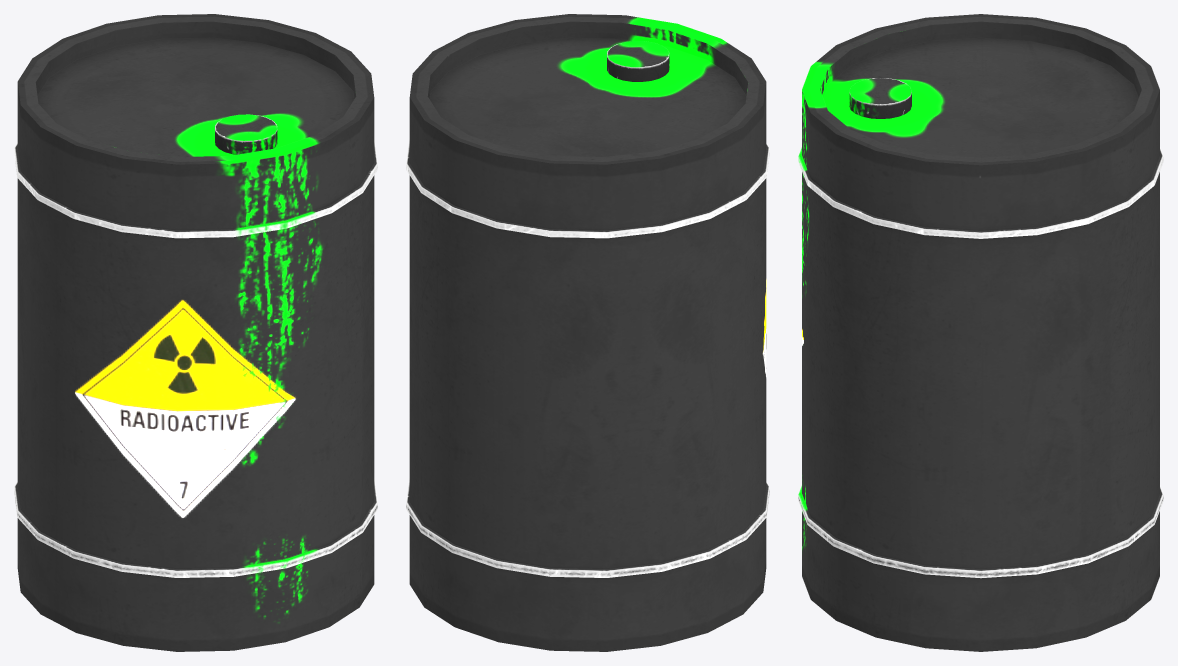
The model's file is toxic_metal_barrel.glb.
3 views of the same model, side by side, from view 1: azimuth 30°, elevation 25°; view 2: azimuth 150°, elevation 25°; view 3: azimuth 270°, elevation 25° (orthographic).
Visible parts, largest first — view 1: Object_2; view 2: Object_2; view 3: Object_2.
Boxes of the visible parts, x1,y1,x2,y2 form: Object_2: (14,14,377,651); Object_2: (406,14,769,651); Object_2: (798,14,1163,651).
Bounding box in the file's own units: 204 × 300 × 204.
Materials: 1 (1 with a texture image).
